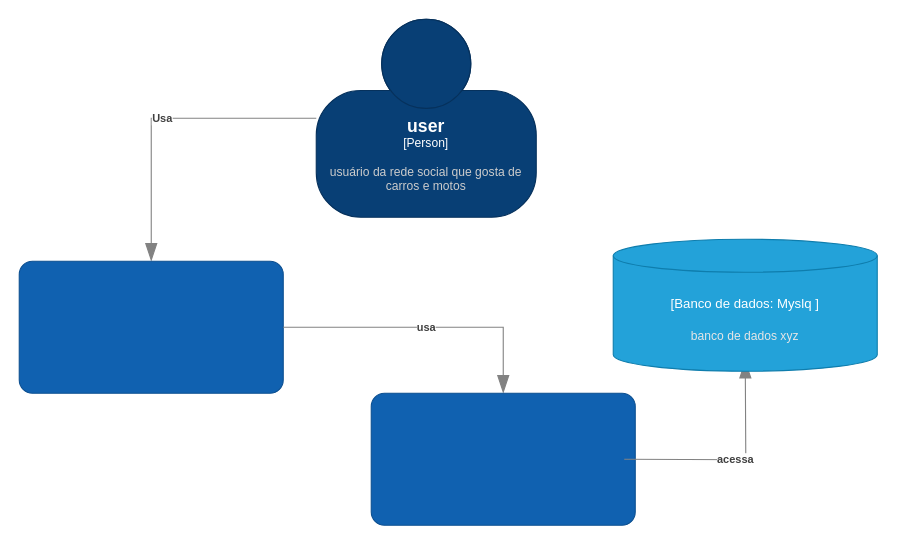
Some shapes in this 897 by 545 pixel diagram are drawn without their labels. The box of each missing label's shape, as (x1, y1, x2, y2) in pixels:
Back end [API system] API: (370, 392, 635, 525)
Web app [React]: (18, 260, 283, 393)
